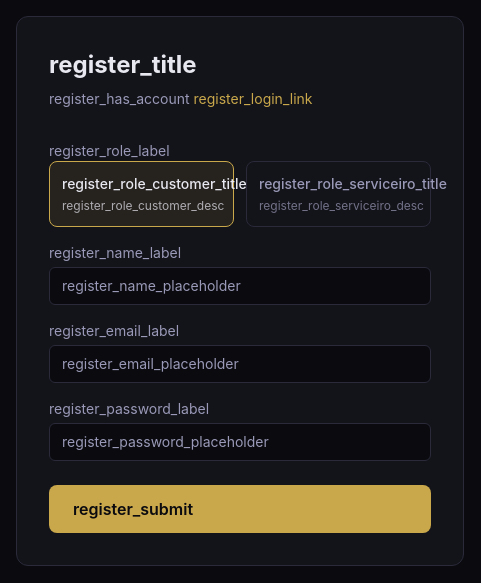
it: exposes registration roles as keyboard-selectable radios
Expected: the radio button labelled "register_role_customer_title register_role_customer_desc" is checked, left=49, top=161, right=234, bottom=227
What coordinates should you click on to do the following:
click the radio button labelled "register_role_serviceiro_title register_role_serviceiro_desc"
I would click on:
 (338, 194)
Its box is left=246, top=161, right=431, bottom=227.
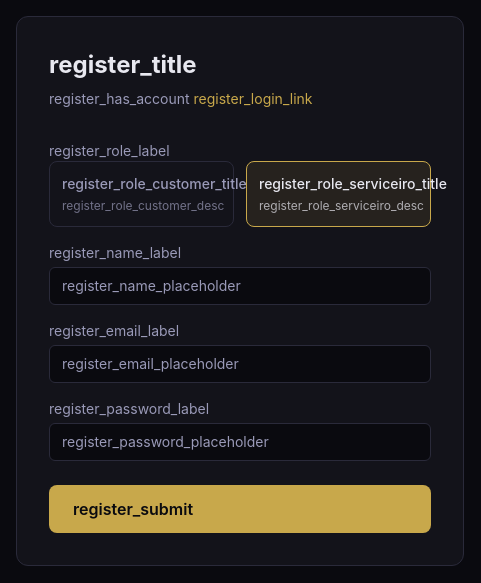
Now the radio button labelled "register_role_serviceiro_title register_role_serviceiro_desc" is checked, box left=246, top=161, right=431, bottom=227
Now the radio button labelled "register_role_customer_title register_role_customer_desc" is not checked, box left=49, top=161, right=234, bottom=227
